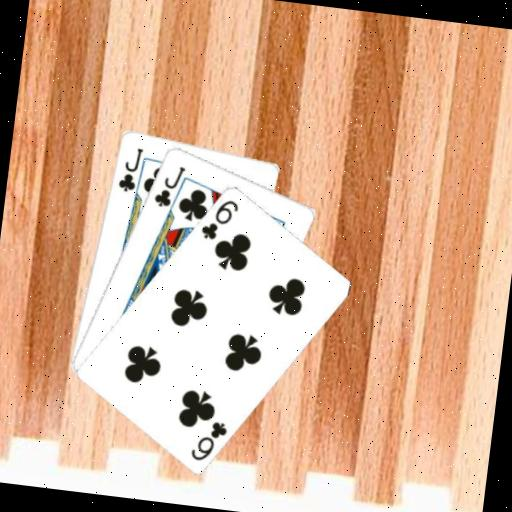6C: (197, 193, 241, 243), (186, 415, 230, 465)
JC: (150, 160, 187, 211), (114, 142, 145, 195)
